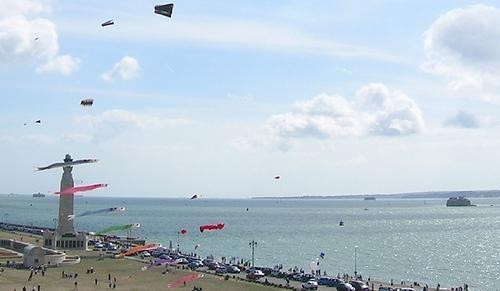car: (335, 283, 356, 291), (245, 272, 260, 280), (227, 266, 241, 274), (216, 266, 228, 274), (208, 262, 221, 269), (271, 270, 282, 278), (186, 262, 200, 268), (254, 270, 264, 276), (94, 242, 104, 248), (196, 260, 204, 267), (140, 251, 150, 256), (108, 244, 116, 250), (160, 256, 172, 260)
